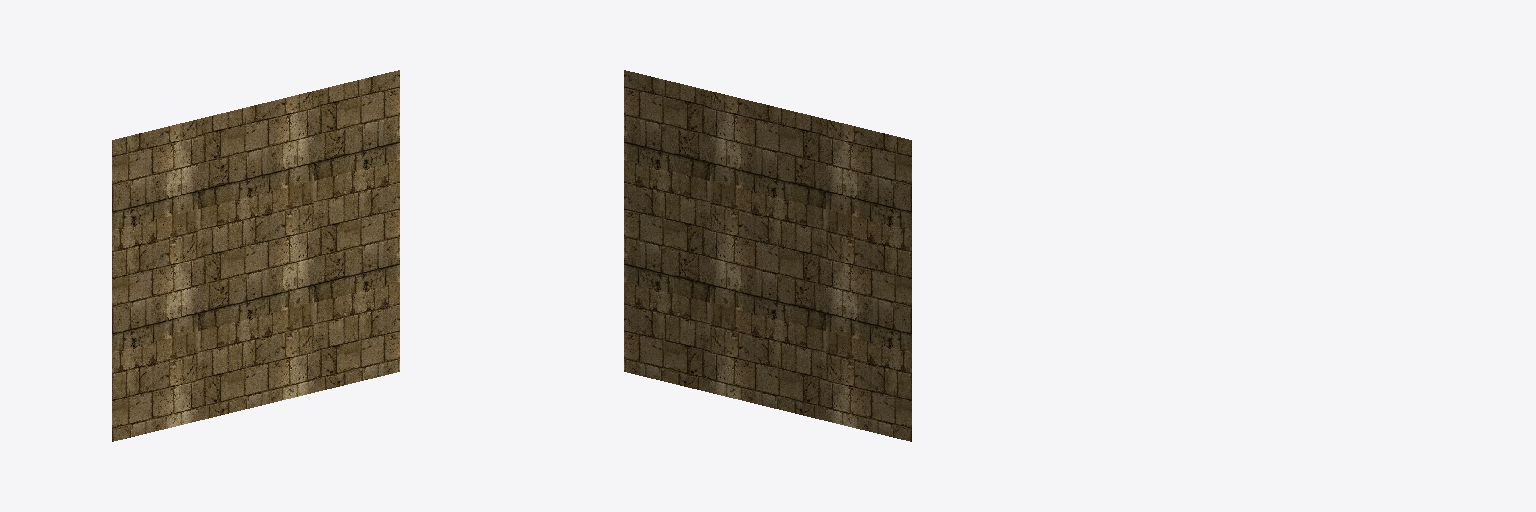
3 views of the same model, side by side, from view 1: azimuth 30°, elevation 25°; view 2: azimuth 150°, elevation 25°; view 3: azimuth 270°, elevation 25° (orthographic).
Parts seen in each view (by area): view 1: mesh01; view 2: mesh01; view 3: none.
Part boxes in pixels (x1,y1,x2,y2): mesh01: (112, 70, 399, 441); mesh01: (624, 70, 911, 441).
Bounding box in the file's own units: 50 × 50 × 0.
Materials: 1 (1 with a texture image).